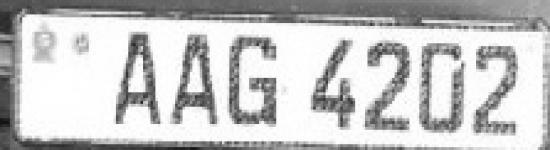0: (419, 38, 466, 138)
2: (360, 34, 416, 136), (472, 40, 522, 142)
4: (309, 33, 356, 132)
A: (107, 26, 165, 130), (168, 26, 222, 132)
G: (225, 28, 283, 131)
